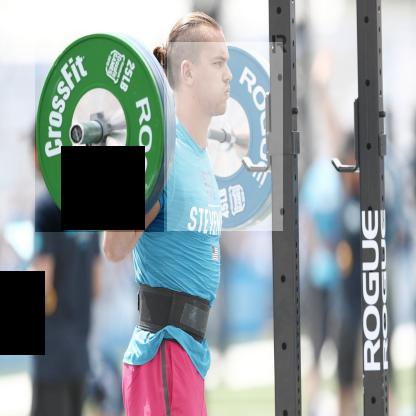barbell: (36, 34, 165, 233), (168, 43, 284, 232)
